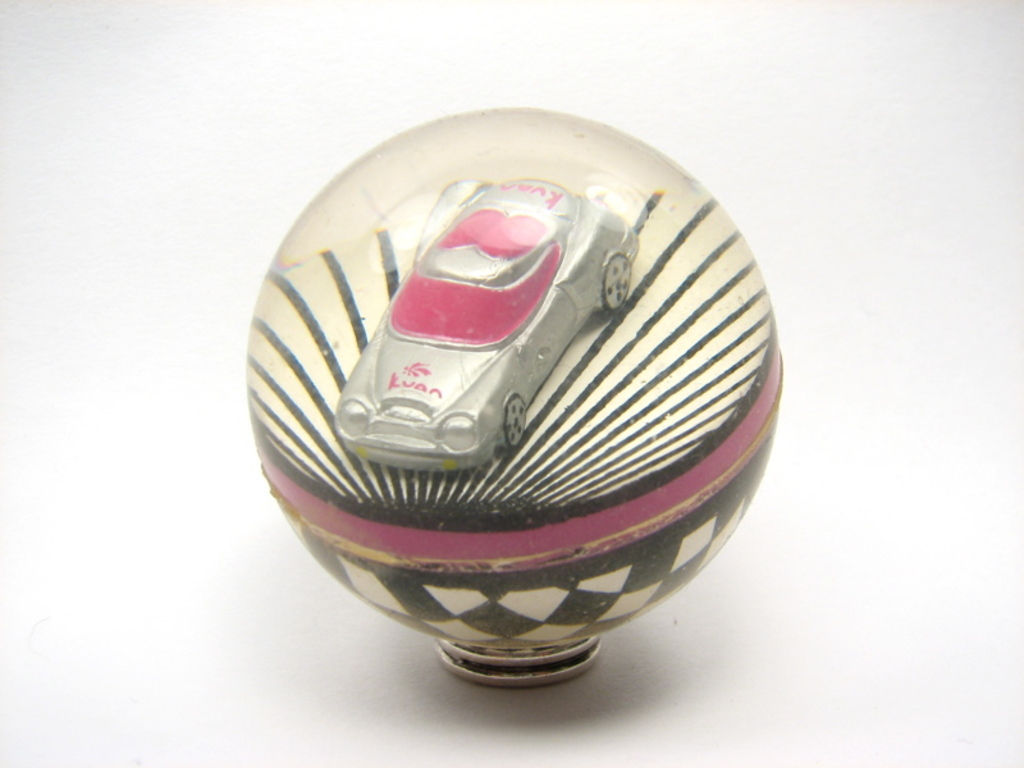Ball: (244, 110, 782, 652)
